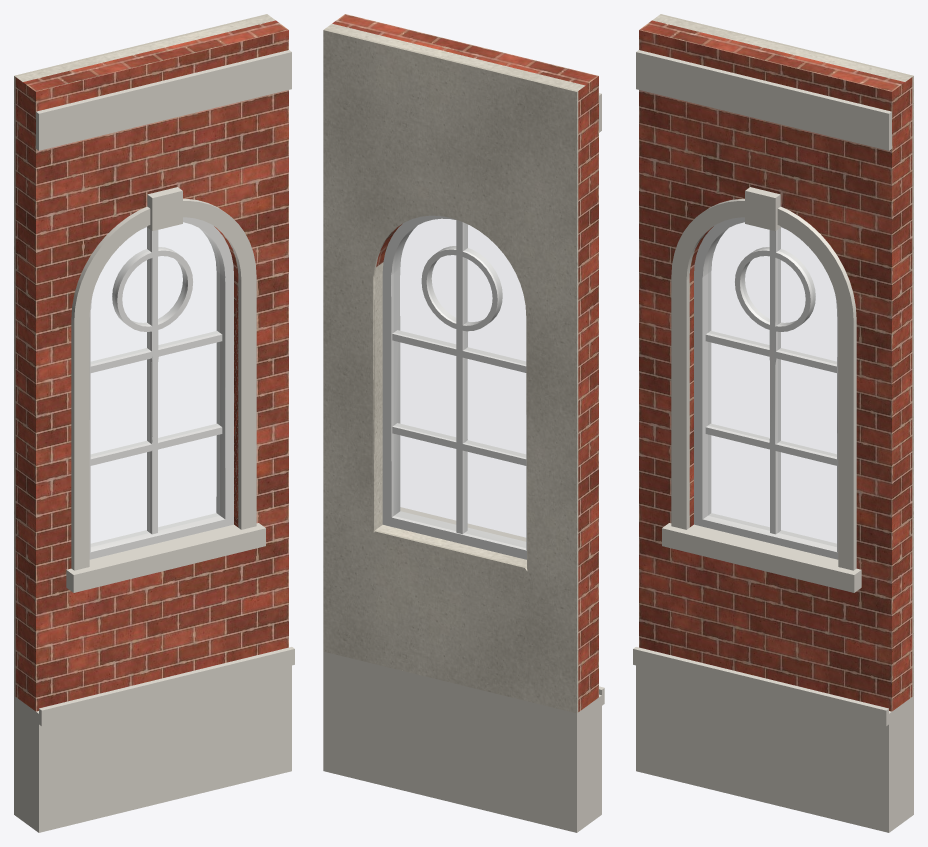
File: wall_window.glb
3 renders of one model, left to right at view 1: azimuth 30°, elevation 25°; view 2: azimuth 150°, elevation 25°; view 3: azimuth 330°, elevation 25°, orthographic.
Visible parts, largest first — view 1: wall_window_brick, wall_window_lime, folha_glass, wall_window_frame, wall_window_plaster; view 2: wall_window_plaster, wall_window_lime, folha_glass, wall_window_brick, wall_window_frame, folha_frame; view 3: wall_window_brick, wall_window_lime, folha_glass, wall_window_frame, wall_window_plaster.
Part boxes in pixels (<box>): wall_window_brick: <box>15,20,288,711</box>; wall_window_lime: <box>14,50,294,832</box>; folha_glass: <box>91,223,219,546</box>; wall_window_frame: <box>89,217,233,559</box>; wall_window_plaster: <box>14,14,275,696</box>; wall_window_plaster: <box>323,23,585,713</box>; wall_window_lime: <box>323,93,604,832</box>; folha_glass: <box>394,219,525,547</box>; wall_window_brick: <box>332,14,598,711</box>; wall_window_frame: <box>382,215,526,559</box>; folha_frame: <box>392,220,526,533</box>; wall_window_brick: <box>639,20,912,711</box>; wall_window_lime: <box>633,50,913,832</box>; folha_glass: <box>708,223,836,546</box>; wall_window_frame: <box>694,217,838,559</box>; wall_window_plaster: <box>652,14,913,696</box>.
Bounding box in the file's own units: 2 × 5.58 × 0.4.
5 materials, 2 textured.
